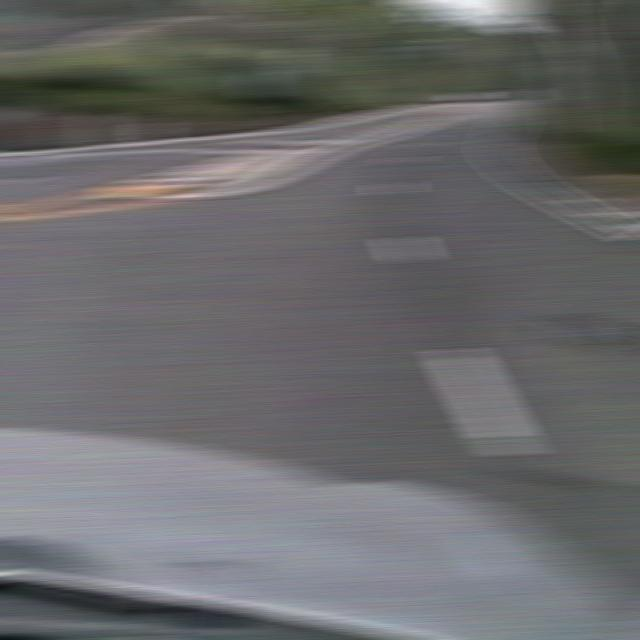speedLimit50: (534, 57, 571, 88), (278, 45, 315, 75)
